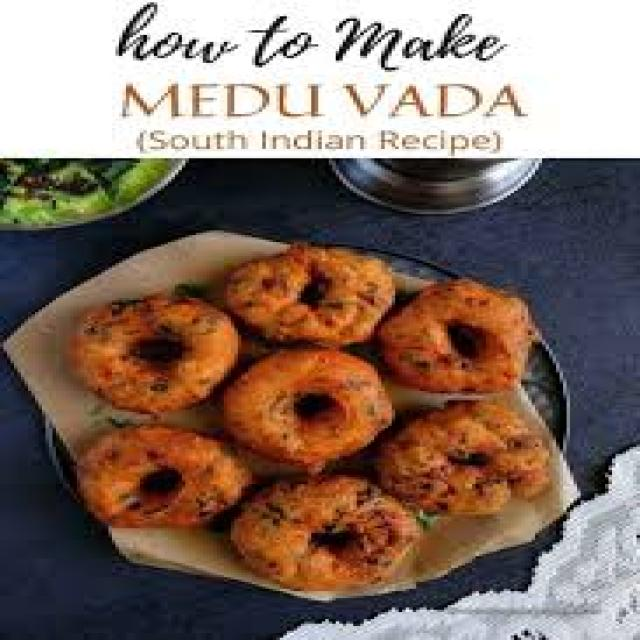MEDU VADA: (231, 475, 420, 589), (224, 349, 388, 468), (73, 293, 234, 414), (378, 400, 546, 512), (374, 279, 535, 391), (80, 426, 248, 526), (227, 244, 395, 340)
